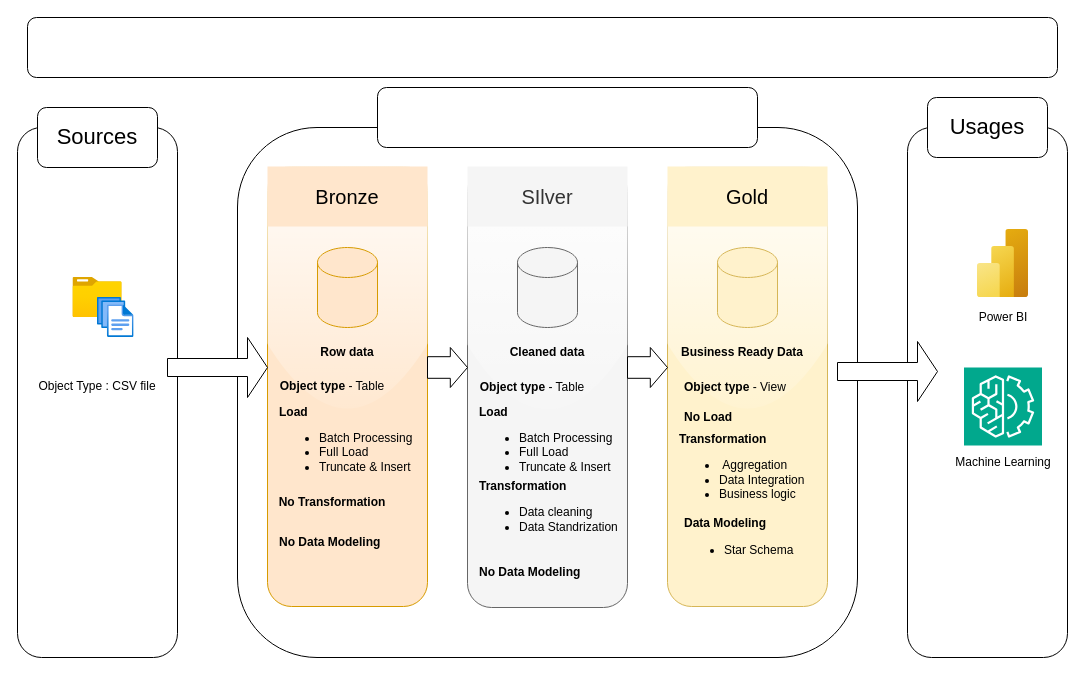
Image size: 1085x675. Some labels were removed from this diagram. The shapes that lost their labels are listed below. From the top down, each one's centre as x and y in pixels, then its label:
At [542,47]: "High Level Architecture".
At [567,117]: "Data Warehose".
